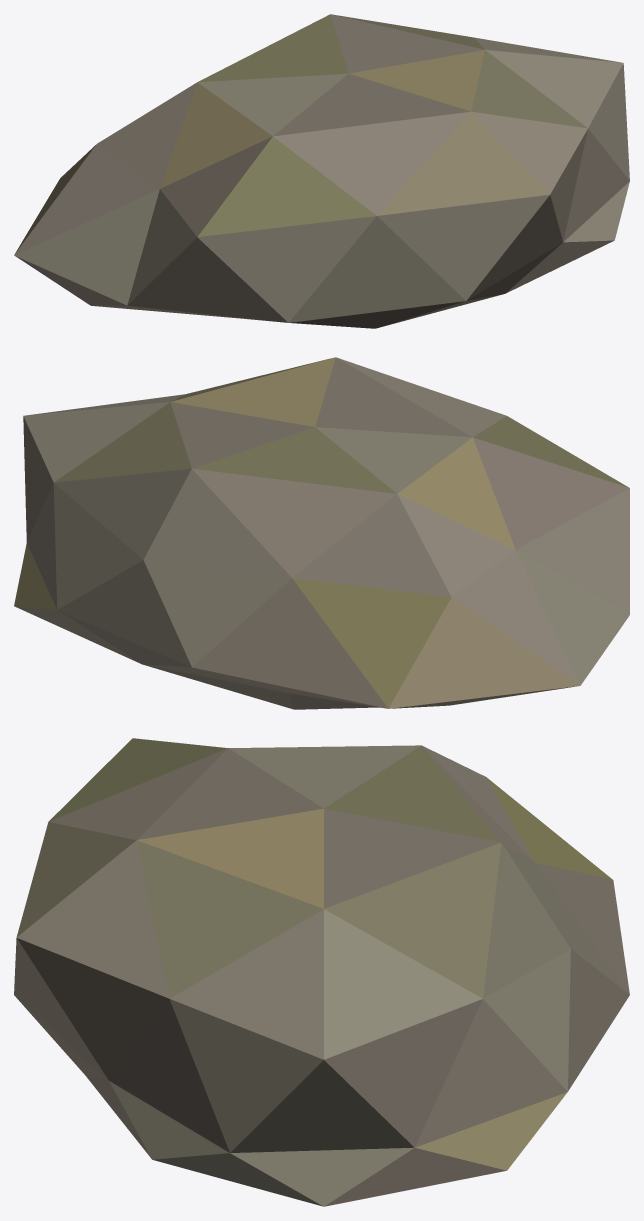
Rendered from env_tor_b.glb.
3 renders of one model, top to bottom at view 1: azimuth 30°, elevation 25°; view 2: azimuth 150°, elevation 25°; view 3: azimuth 270°, elevation 25°, orthographic. The views are drawn at different scales.
Parts seen in each view (by area): view 1: env_tor_b; view 2: env_tor_b; view 3: env_tor_b.
Part boxes in pixels (x1,y1,x2,y2): env_tor_b: (14, 14, 629, 328); env_tor_b: (14, 357, 629, 709); env_tor_b: (14, 738, 629, 1206).
Bounding box in the file's own units: 4.65 × 1.58 × 3.32.
